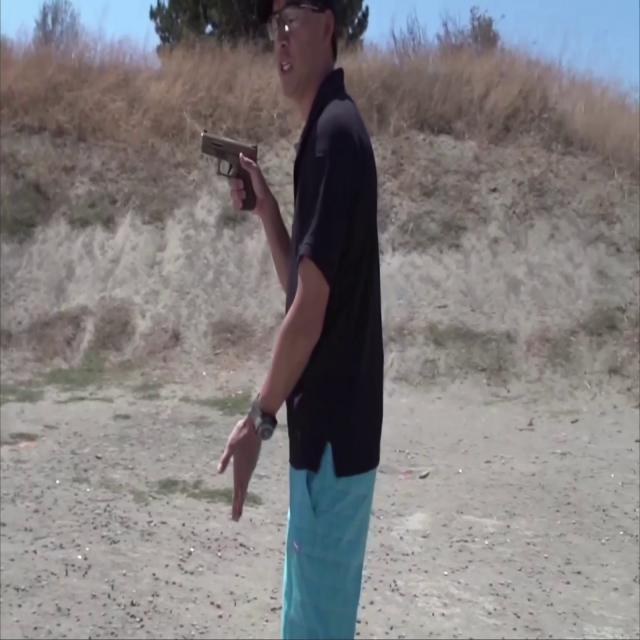gun: (200, 132, 258, 211)
